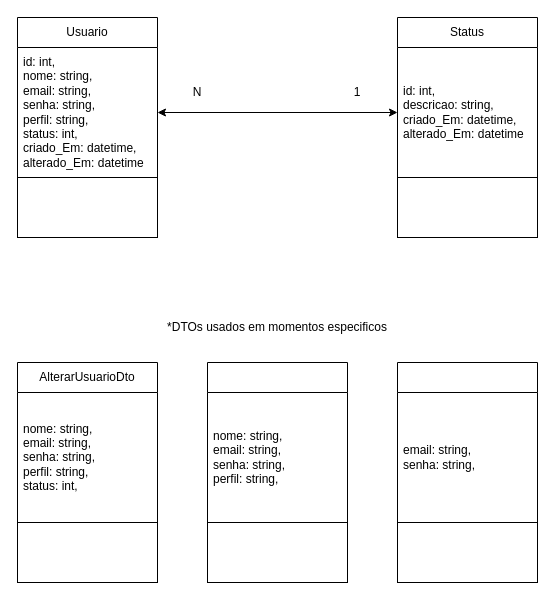
Image size: 555x600. Some labels were removed from this diagram. Each missing label, with the box of its shape:
CadastroDto: (206, 362, 348, 582)
LoginDto: (396, 362, 538, 582)
